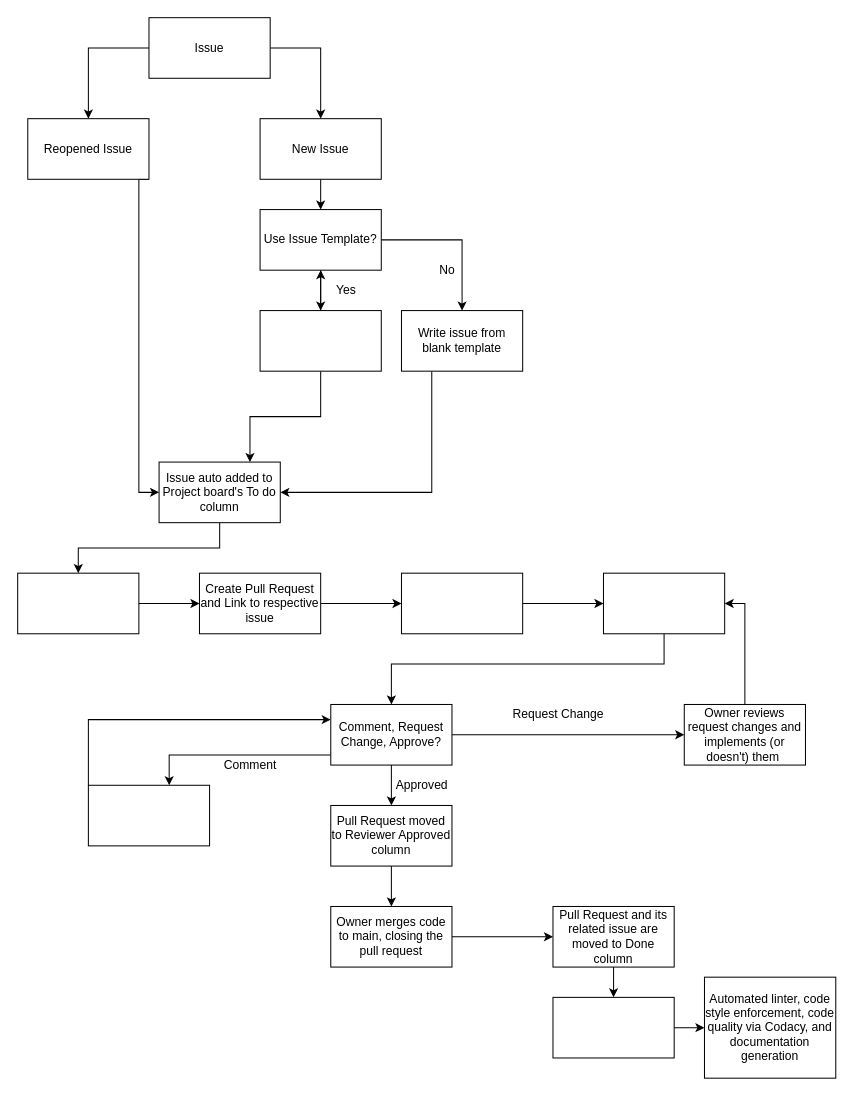
Image size: 853x1096. Some labels were removed from this diagram. The shapes that lost their labels are listed below. From the top down, each one's centre as x and y in pixels, then its label:
(x=320, y=340): Fill in the issue template
(x=78, y=603): Work on resolving the issue
(x=461, y=603): Pull Request auto added to Project board's In progress column
(x=663, y=603): Pull Request reviewed by a member of another team
(x=148, y=815): Comment added to pull request, no changes in status of issue/pull request
(x=613, y=1027): GitHub Actions trigger on push / pull request
